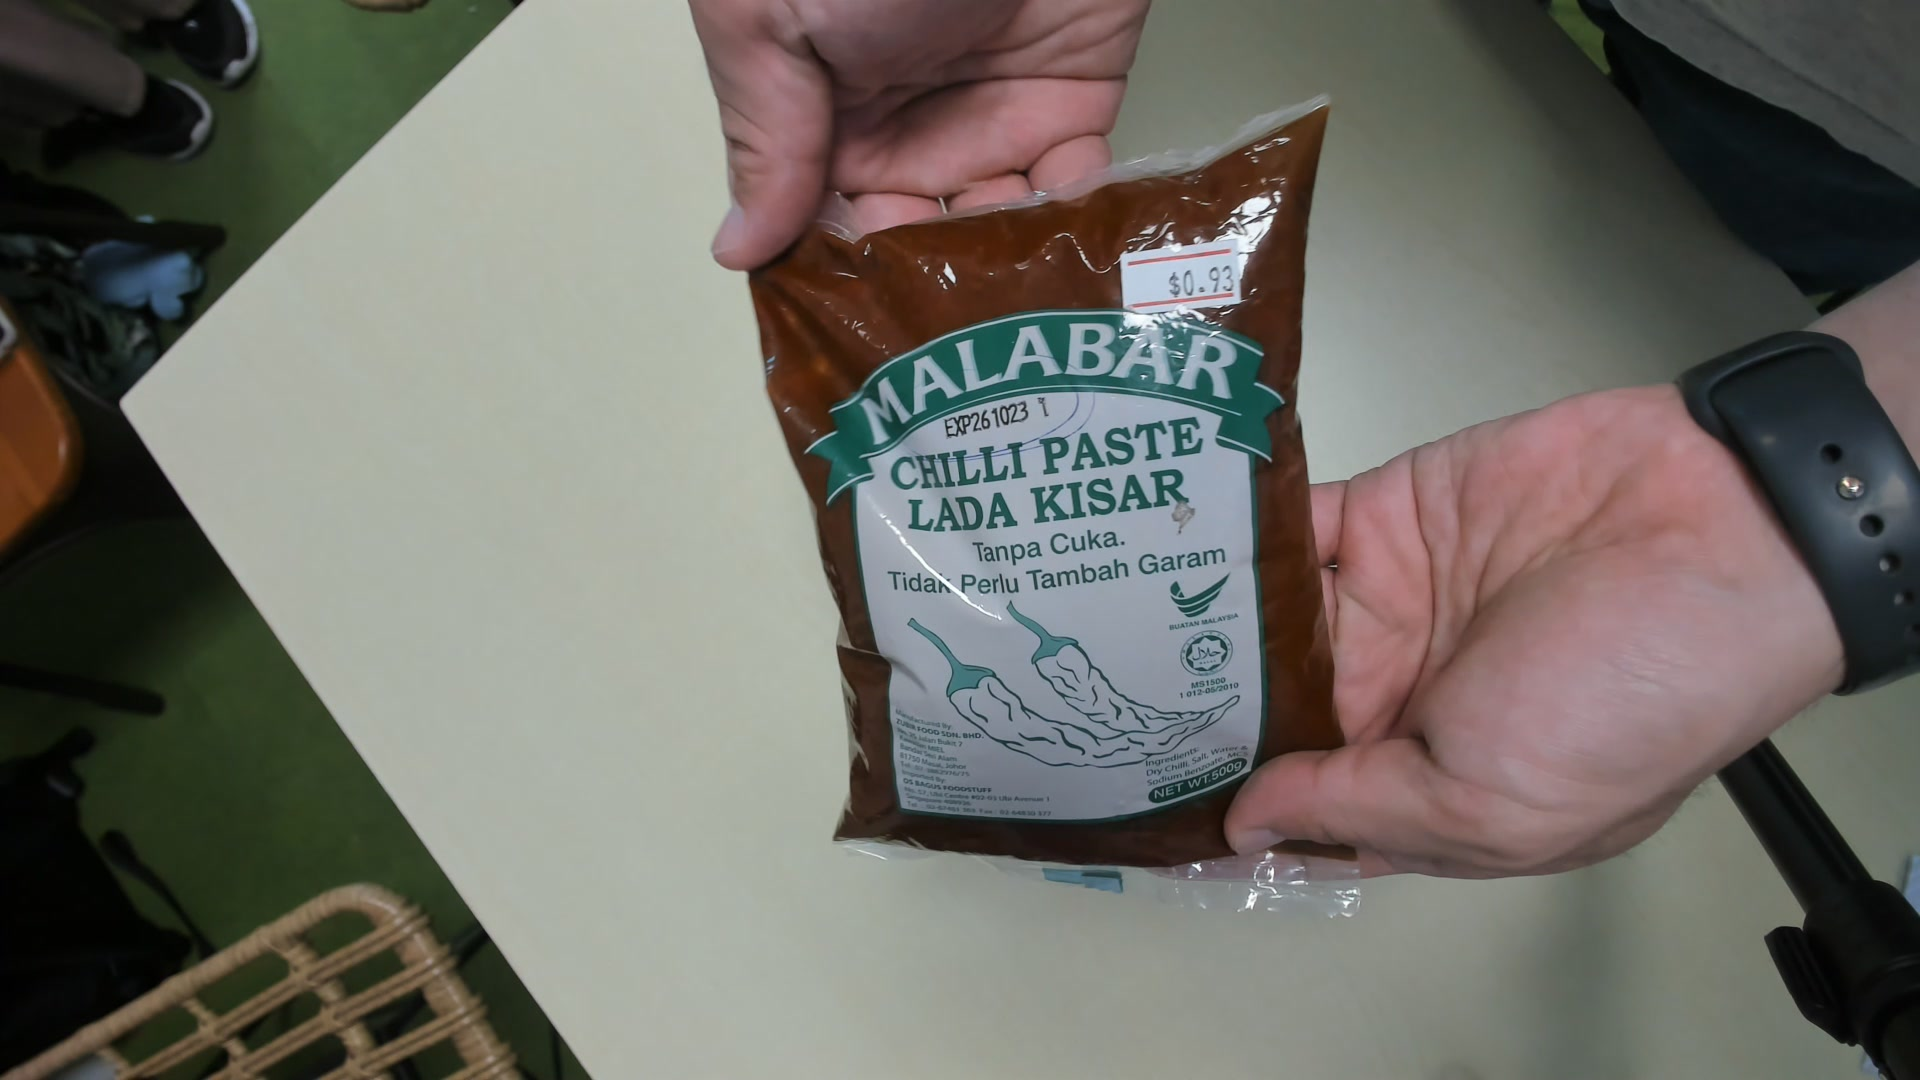OtherSauceDressingSoupbasePaste_500-599g_Halal_NonHealthy: (762, 102, 1356, 920)
